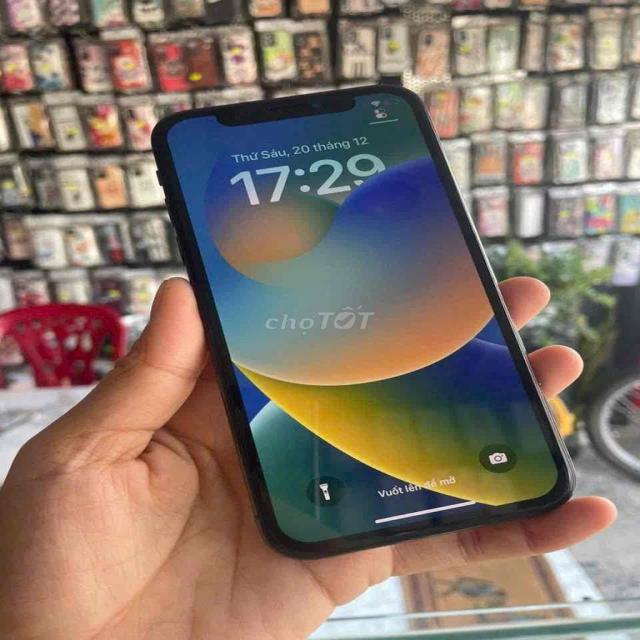gen_x_xs: (152, 80, 583, 559)
